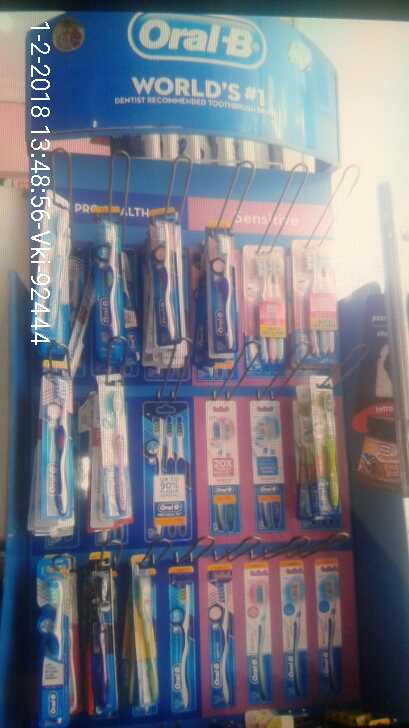oralb: (35, 556, 71, 728), (292, 237, 340, 363), (242, 248, 288, 375), (94, 372, 131, 520), (146, 209, 185, 344), (92, 211, 124, 366), (129, 554, 160, 704), (42, 375, 74, 520), (309, 374, 339, 519), (89, 550, 115, 717), (206, 220, 238, 353)
